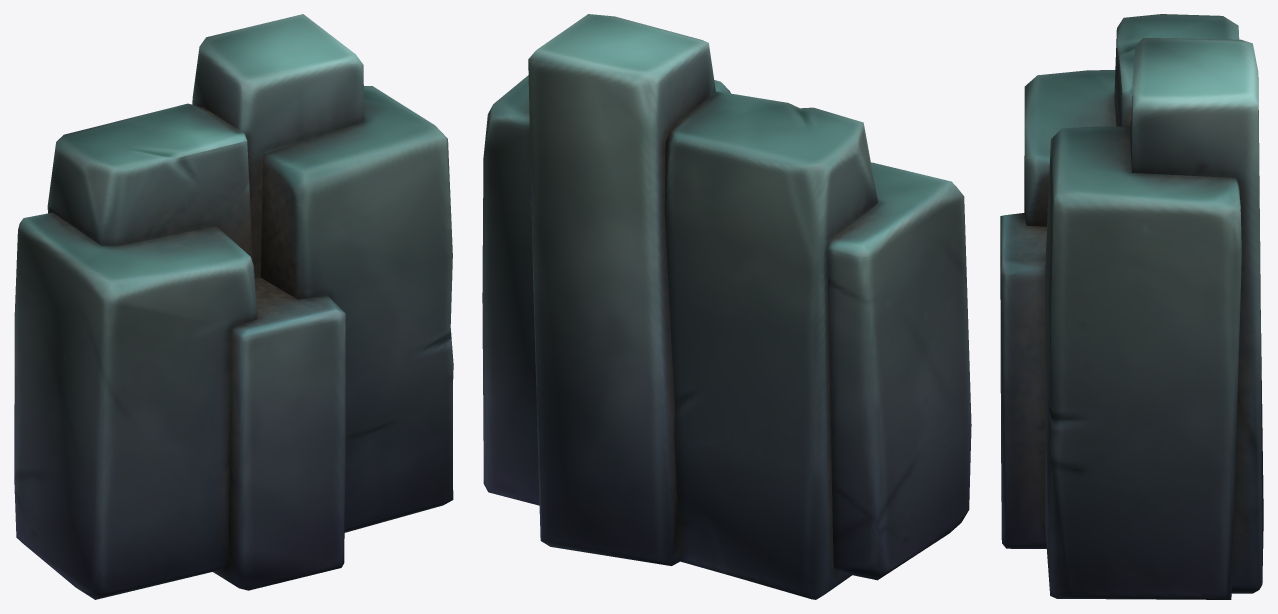
Rendered from SM_Gem_Titanium_004.fbx.
The picture shows the model from 3 angles, left to right: view 1: azimuth 30°, elevation 25°; view 2: azimuth 150°, elevation 25°; view 3: azimuth 270°, elevation 25°; orthographic projection. The views are drawn at different scales.
Visible parts, largest first — view 1: SM_Gem_Titanium_004; view 2: SM_Gem_Titanium_004; view 3: SM_Gem_Titanium_004.
Part boxes in pixels (x1,y1,x2,y2): SM_Gem_Titanium_004: (14,14,453,599); SM_Gem_Titanium_004: (482,14,971,599); SM_Gem_Titanium_004: (1000,14,1263,599).
Size of the model in its own units: 34.18 by 40.83 by 19.28.
